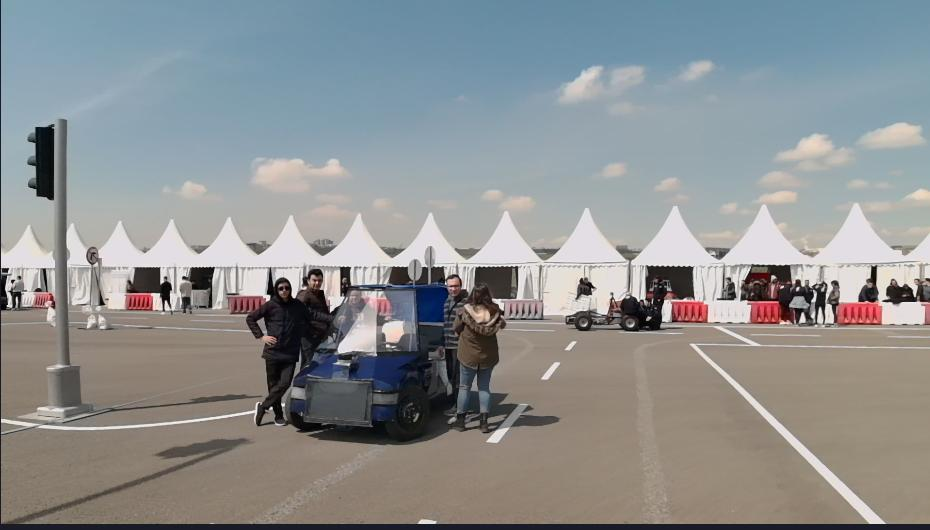nesne: (5, 325, 930, 530), (417, 321, 894, 527), (0, 369, 494, 527), (687, 320, 890, 526), (285, 281, 448, 439), (247, 277, 334, 423), (451, 280, 506, 435), (0, 408, 253, 430), (439, 273, 468, 426), (561, 289, 660, 330), (111, 309, 252, 333), (670, 300, 780, 322), (836, 299, 928, 324), (487, 399, 527, 441), (297, 268, 330, 309), (301, 321, 331, 366), (561, 275, 596, 310), (836, 302, 883, 324), (704, 298, 747, 322), (880, 301, 923, 322), (790, 277, 808, 325), (226, 294, 264, 316), (884, 276, 916, 301), (672, 300, 706, 323), (503, 299, 541, 319), (748, 300, 778, 324), (650, 275, 667, 316), (81, 303, 110, 327), (857, 273, 880, 302), (158, 275, 175, 314), (826, 276, 840, 322), (812, 279, 828, 319), (178, 275, 194, 315), (9, 272, 23, 308), (126, 293, 150, 310), (913, 274, 928, 301), (720, 270, 736, 295), (764, 273, 780, 298), (32, 292, 52, 308), (802, 278, 813, 306), (106, 293, 124, 310), (540, 362, 559, 378), (86, 246, 99, 263), (416, 514, 438, 523), (45, 303, 54, 323), (22, 291, 33, 306), (152, 293, 162, 309), (564, 338, 576, 350), (923, 303, 929, 322)
